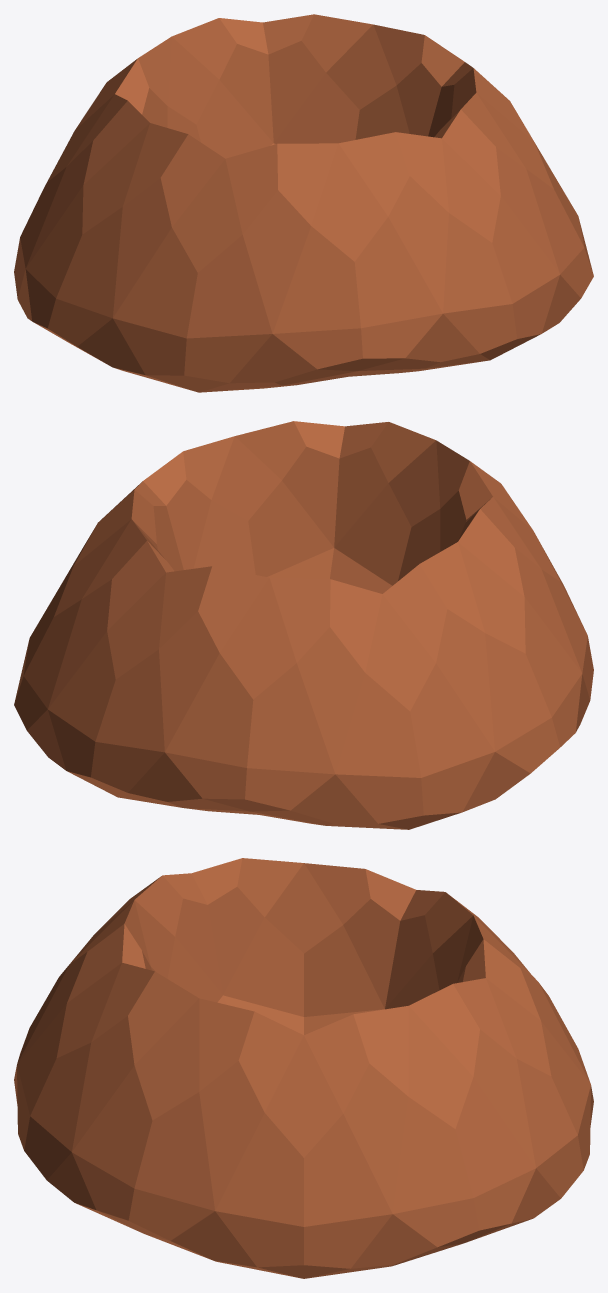
The model's file is Vulcano Small 2.fbx.
3 views of the same model, one above another, from view 1: azimuth 30°, elevation 25°; view 2: azimuth 150°, elevation 25°; view 3: azimuth 270°, elevation 25° (orthographic).
Visible parts, largest first — view 1: Icosphere.002; view 2: Icosphere.002; view 3: Icosphere.002.
Boxes of the visible parts, x1,y1,x2,y2 form: Icosphere.002: (14,14,593,392); Icosphere.002: (14,421,593,829); Icosphere.002: (14,858,593,1278).
Size of the model in its own units: 181 by 90.23 by 177.
